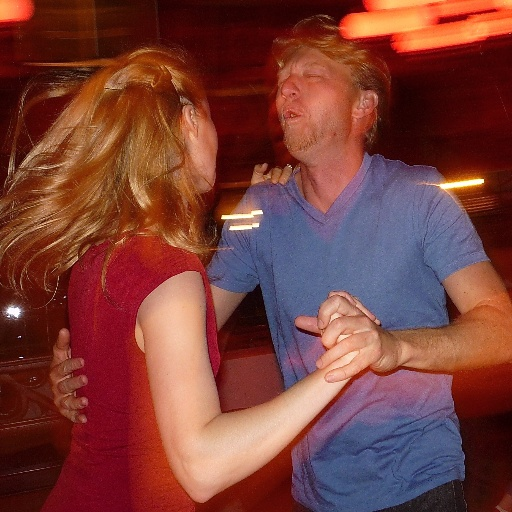hand: (319, 290, 382, 376), (47, 328, 90, 426), (250, 161, 302, 187)
